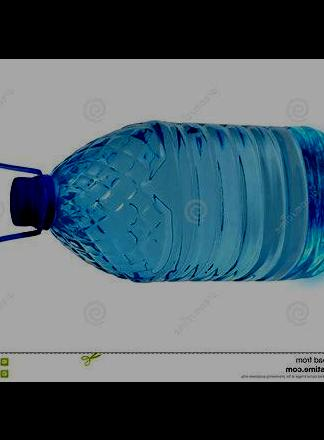bottle: (0, 115, 324, 284)
